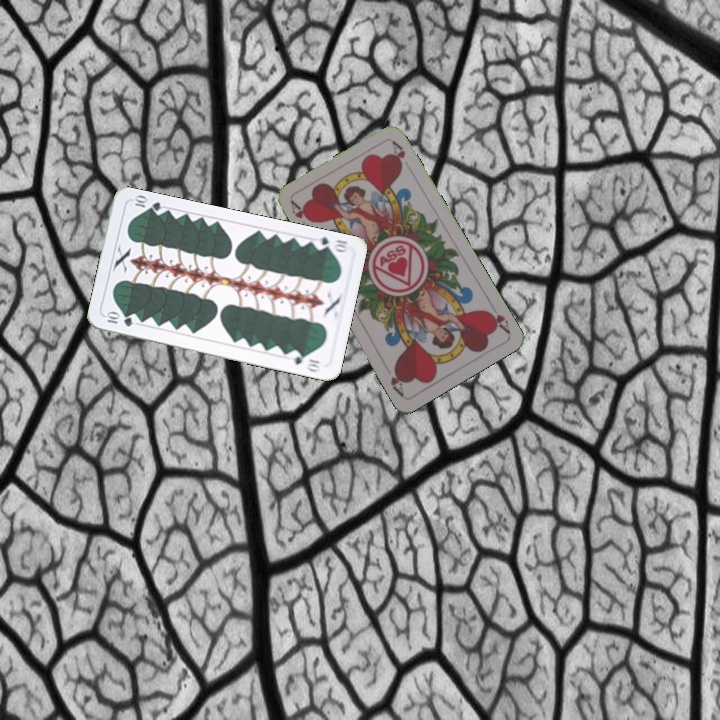G10: (310, 233, 351, 255), (102, 309, 136, 329)
HA: (482, 306, 513, 336), (286, 198, 310, 222)
